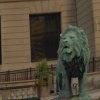Statue: (47, 18, 97, 100)
